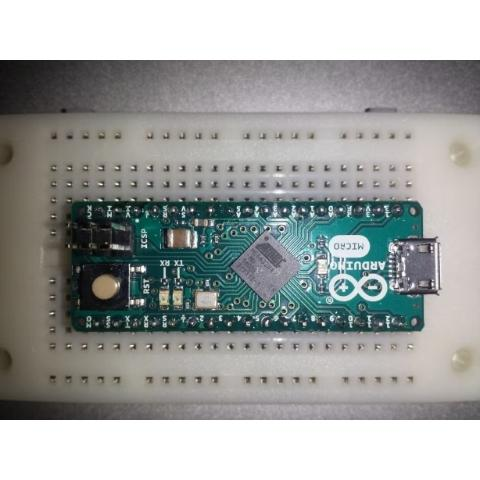Arduino-Micro: (52, 191, 450, 341)
